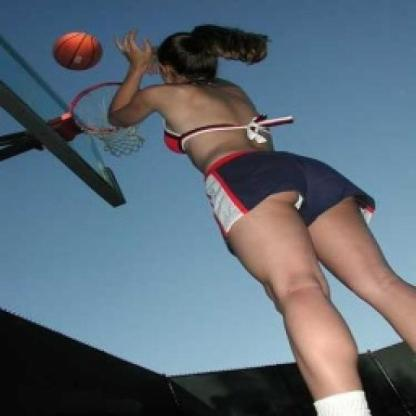basketball: (54, 30, 103, 74)
